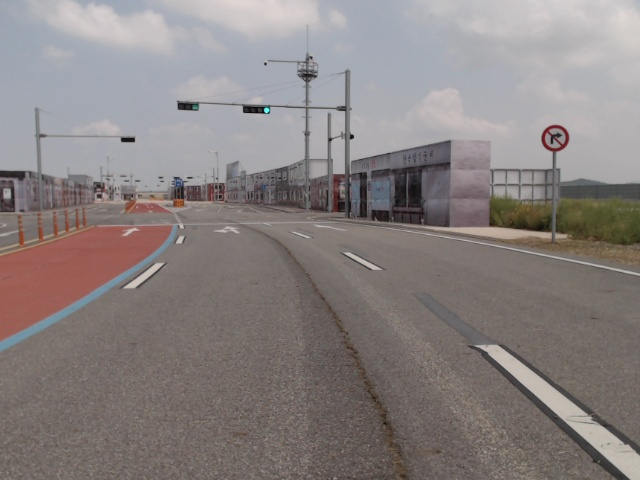straight_green_4: (242, 105, 271, 113)
